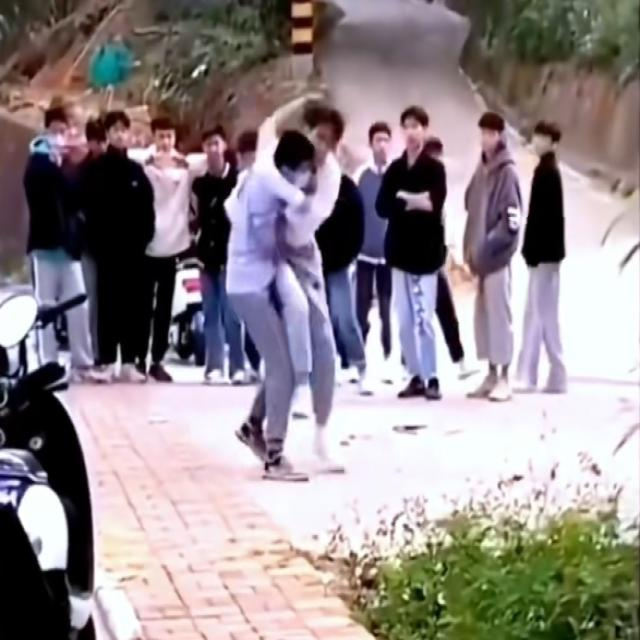fight: (236, 76, 354, 483)
nofight: (26, 100, 94, 374), (388, 107, 453, 393), (516, 110, 578, 400), (92, 107, 155, 377), (469, 108, 517, 408)
